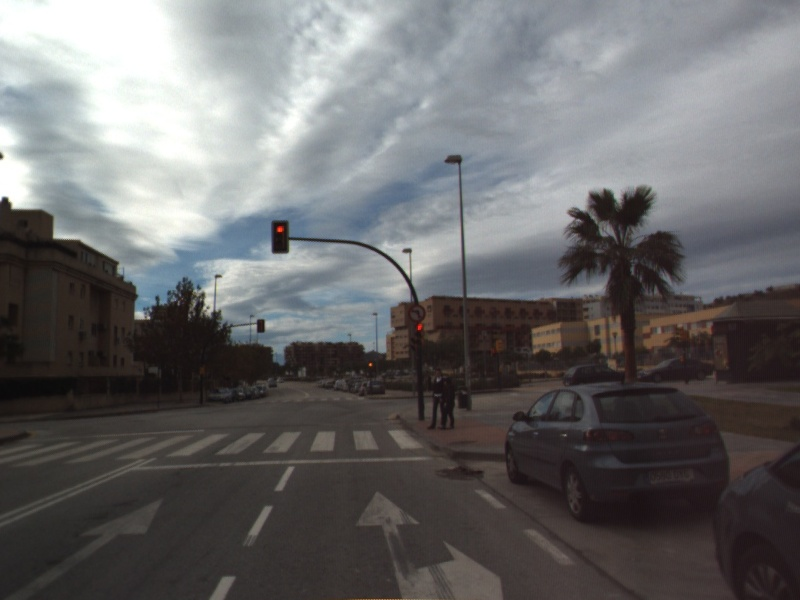STRAIGHT: (3, 496, 166, 600)
STRAIGHT_RIGHT: (352, 488, 505, 600)
